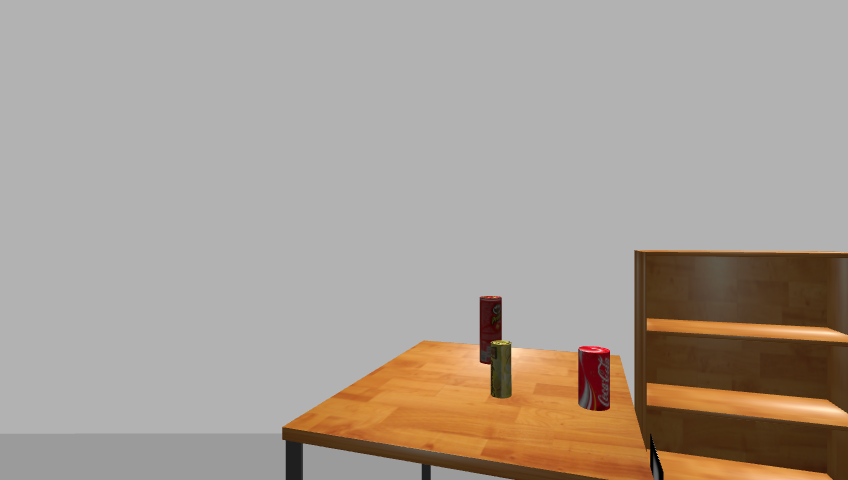aruco marker: (644, 434, 666, 480)
biscuits pack: (490, 340, 513, 400)
bookshelf: (628, 249, 848, 479)
coke can: (576, 346, 613, 412)
dinner table: (276, 341, 659, 480)
pringles can: (477, 295, 504, 366)
